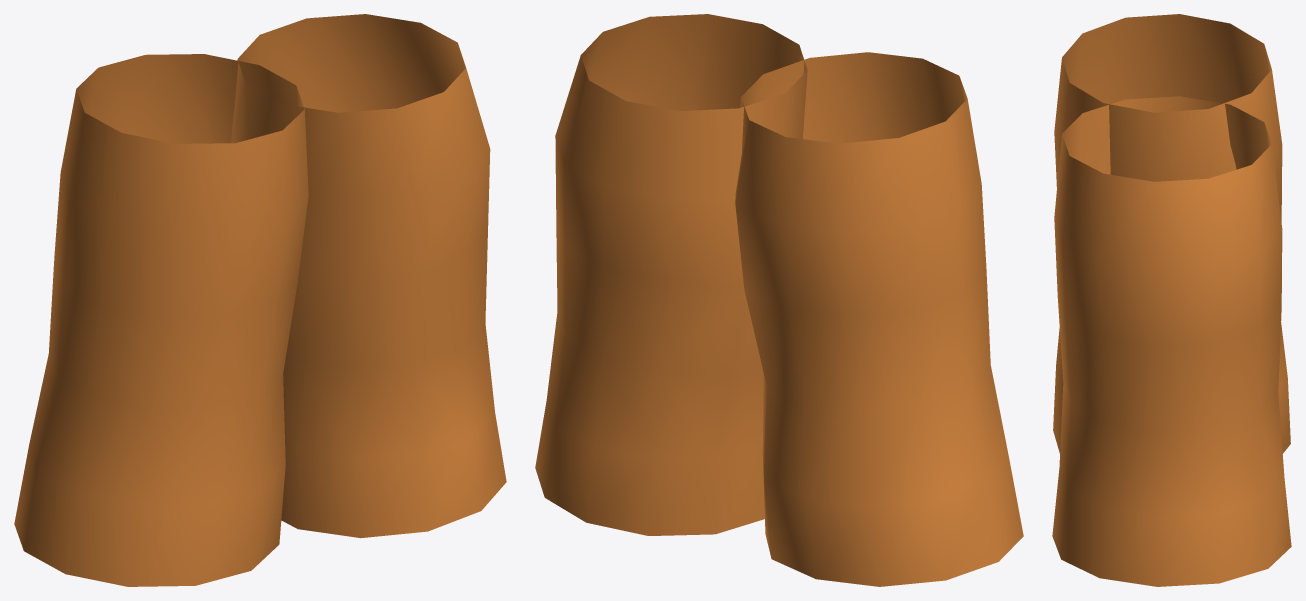
File: pants-shorts.fbx
3 renders of one model, left to right at view 1: azimuth 30°, elevation 25°; view 2: azimuth 150°, elevation 25°; view 3: azimuth 270°, elevation 25°, orthographic. The views are drawn at different scales.
Parts seen in each view (by area): view 1: BézierCurve.004; view 2: BézierCurve.004; view 3: BézierCurve.004.
Part boxes in pixels (box(x1,y1,x2,y2)): BézierCurve.004: box(14, 14, 506, 586); BézierCurve.004: box(535, 14, 1023, 586); BézierCurve.004: box(1052, 14, 1291, 586).
Size of the model in its own units: 165 by 151 by 81.21.
